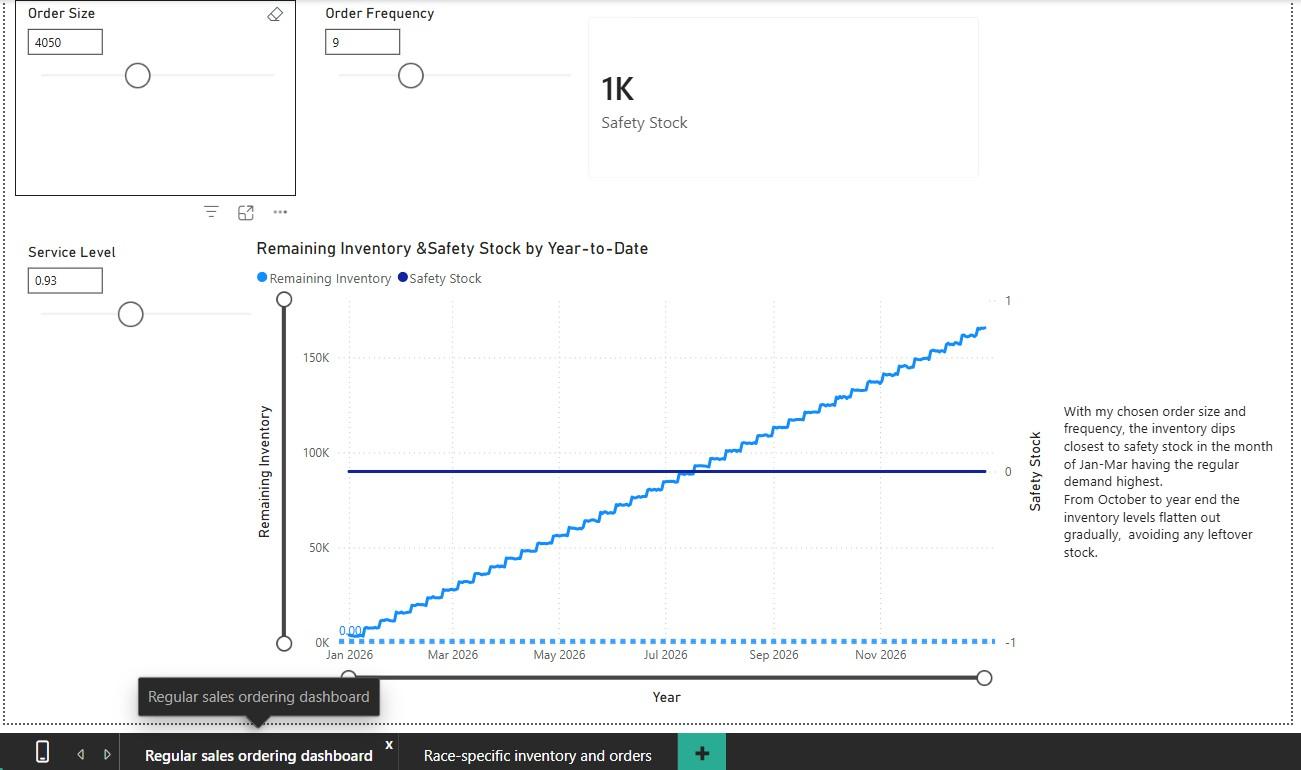

This screenshot's page, from the dashboard's own definition file:
{"tool":"powerbi","page":{"name":"Regular sales ordering dashboard","canvas":[1280,720],"ordinal":0},"visuals":[{"type":"slicer","fields":{"Values":["Order Size.Order Size"]},"box":[9.6,0,279.9,194.9],"z":0},{"type":"slicer","fields":{"Values":["Parameter.Parameter"]},"box":[306,0,279.9,194.9],"z":1000},{"type":"slicer","fields":{"Values":["Service Level.Service Level"]},"box":[10,237.5,280,195],"z":2000},{"type":"lineChart","title":"Remaining Inventory &Safety Stock by Year-to-Date","fields":{"Category":["monthly_apparel_demand_data.Date.Variation.Date Hierarchy.Year","monthly_apparel_demand_data.Date.Variation.Date Hierarchy.Quarter","monthly_apparel_demand_data.Date.Variation.Date Hierarchy.Month","monthly_apparel_demand_data.Date.Variation.Date Hierarchy.Day"],"Y2":["monthly_apparel_demand_data.Safety Stock"],"Y":["monthly_apparel_demand_data.Remaining Inventory"]},"box":[244.7,237,792.5,470],"z":3000},{"type":"cardVisual","fields":{"Data":["monthly_apparel_demand_data.Safety Stock"]},"box":[563.3,0,423.4,194.2],"z":4000},{"type":"textbox","box":[1049.3,394,220.9,289.6],"z":5000}]}

Visuals, with their boxes on the page's 1280x720 design canvas (x1, y1, x2, y2). These are canvas units, not pixel positions in the 1301x770 screenshot, which may show the page scaled, cropped or inside an application window:
slicer - Order Size.Order Size: (left=10, top=0, right=290, bottom=195)
slicer - Parameter.Parameter: (left=306, top=0, right=586, bottom=195)
slicer - Service Level.Service Level: (left=10, top=238, right=290, bottom=432)
"Remaining Inventory &Safety Stock by Year-to-Date" lineChart: (left=245, top=237, right=1037, bottom=707)
cardVisual - monthly_apparel_demand_data.Safety Stock: (left=563, top=0, right=987, bottom=194)
textbox: (left=1049, top=394, right=1270, bottom=684)
